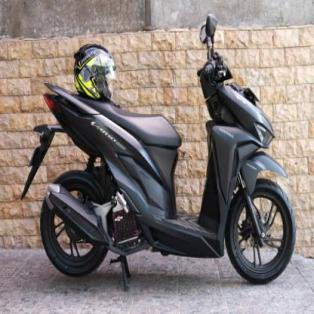Motocicleta: (20, 16, 300, 290)
